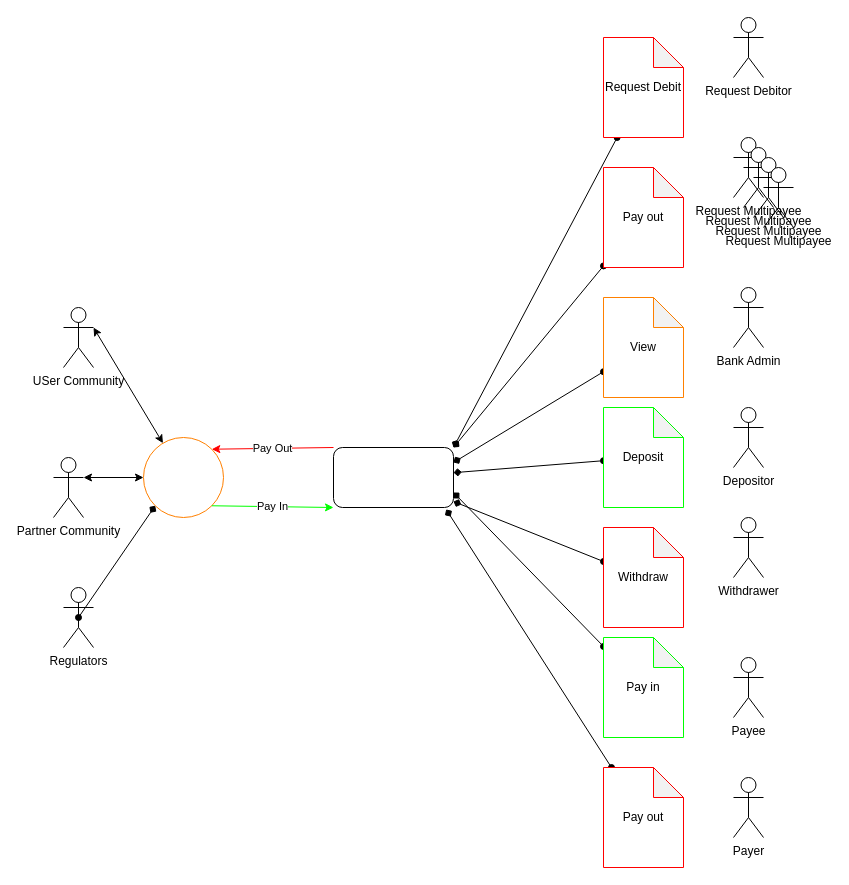
The diagram is 849 pixels wide and 885 high, and some of its shapes have lost their labels. Each missing label, with the centre of its shape:
"dApp" goes at point (183, 477).
"Open Bank" goes at point (393, 477).
